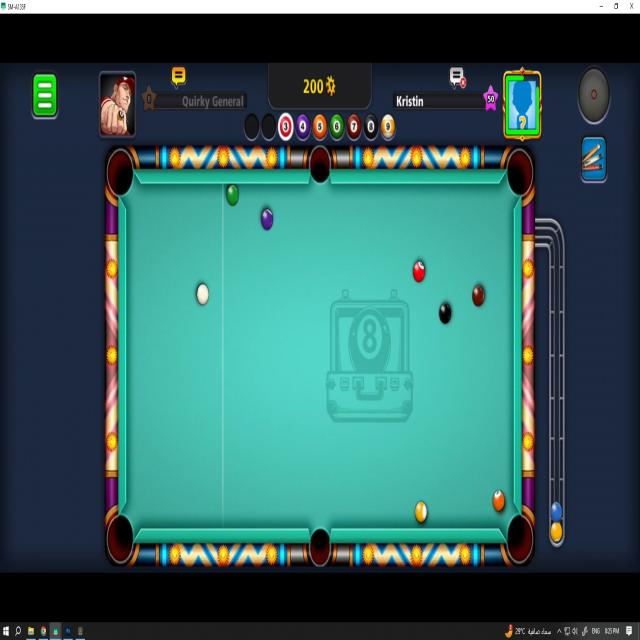object_ball: (413, 261, 425, 282), (415, 502, 427, 522), (227, 185, 238, 206), (440, 303, 451, 324), (493, 491, 504, 511), (473, 286, 484, 306), (261, 210, 272, 230)
white_cue_ball: (197, 283, 209, 305)
